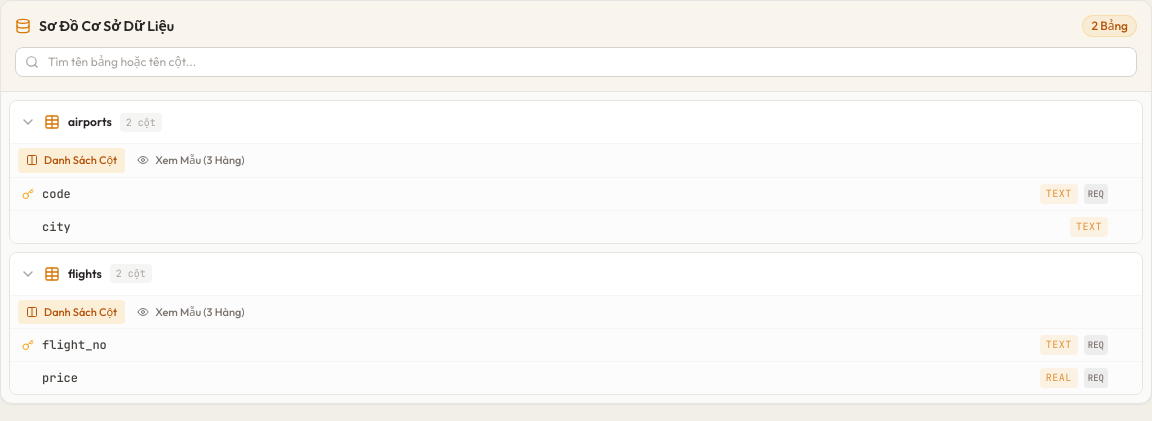
SchemaBrowser Component — Step 4.2 › lọc danh sách bảng/cột theo từ khóa tìm kiếm
Type "flight" into the field with placeholder "Tìm tên bảng hoặc tên cột..." at (576, 62), box [15, 47, 1137, 77]
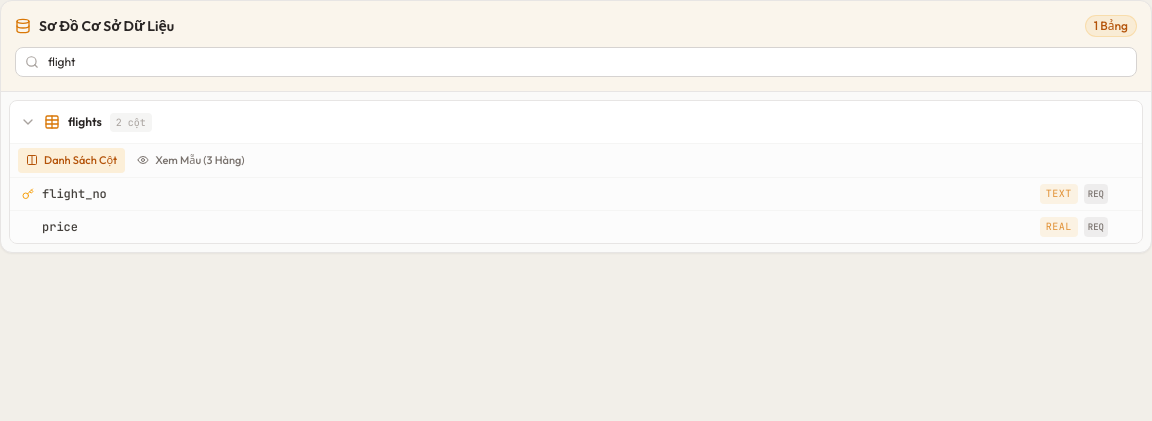
Expected: the text "flights" is shown, [68, 114, 102, 130]
Now the button "airports" is gone
